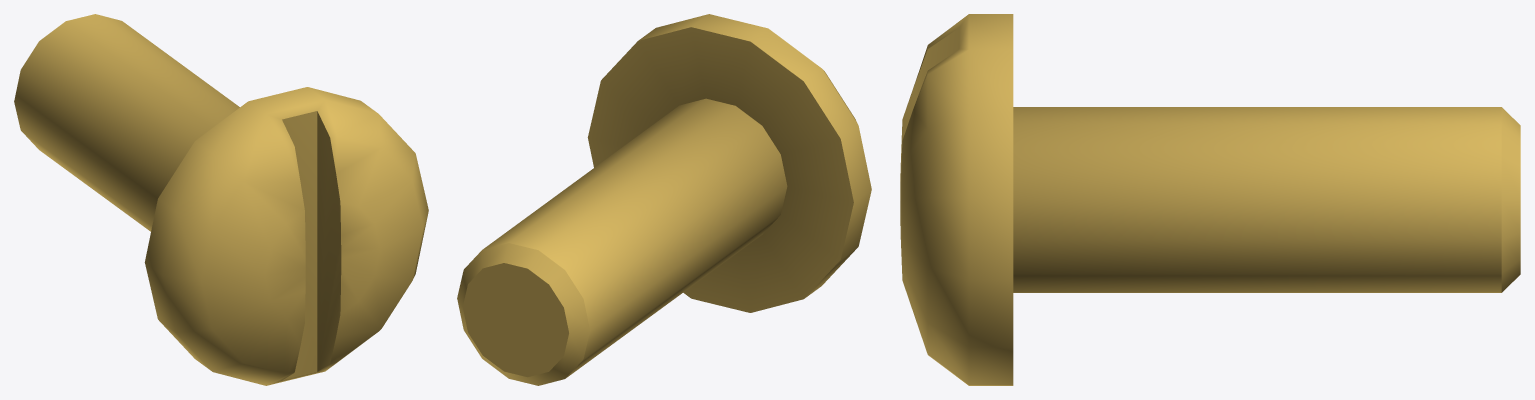
Rendered from screw_slot_m3.glb.
The picture shows the model from 3 angles, left to right: view 1: azimuth 30°, elevation 25°; view 2: azimuth 150°, elevation 25°; view 3: azimuth 270°, elevation 25°; orthographic projection. The views are drawn at different scales.
Visible parts, largest first — view 1: Screw_SlotM3; view 2: Screw_SlotM3; view 3: Screw_SlotM3.
Boxes of the visible parts, x1,y1,x2,y2 form: Screw_SlotM3: [14, 14, 428, 385]; Screw_SlotM3: [457, 14, 871, 385]; Screw_SlotM3: [900, 14, 1520, 385].
Size of the model in its own units: 0.006 by 0.00585 by 0.00978.
